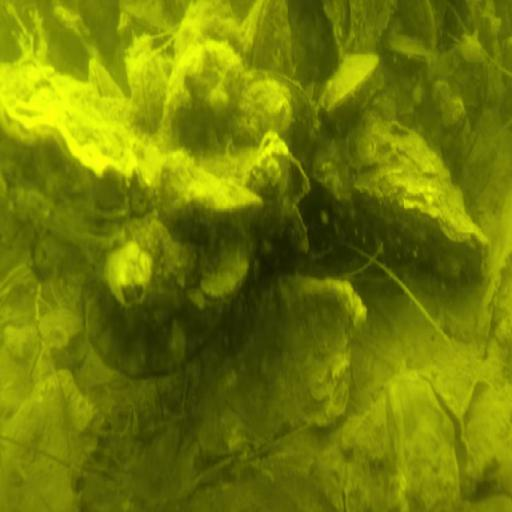Oyster-Closed: (332, 114, 488, 267), (274, 274, 366, 417), (1, 375, 94, 512), (319, 48, 375, 100)
Oyster-Open: (344, 369, 471, 512)
